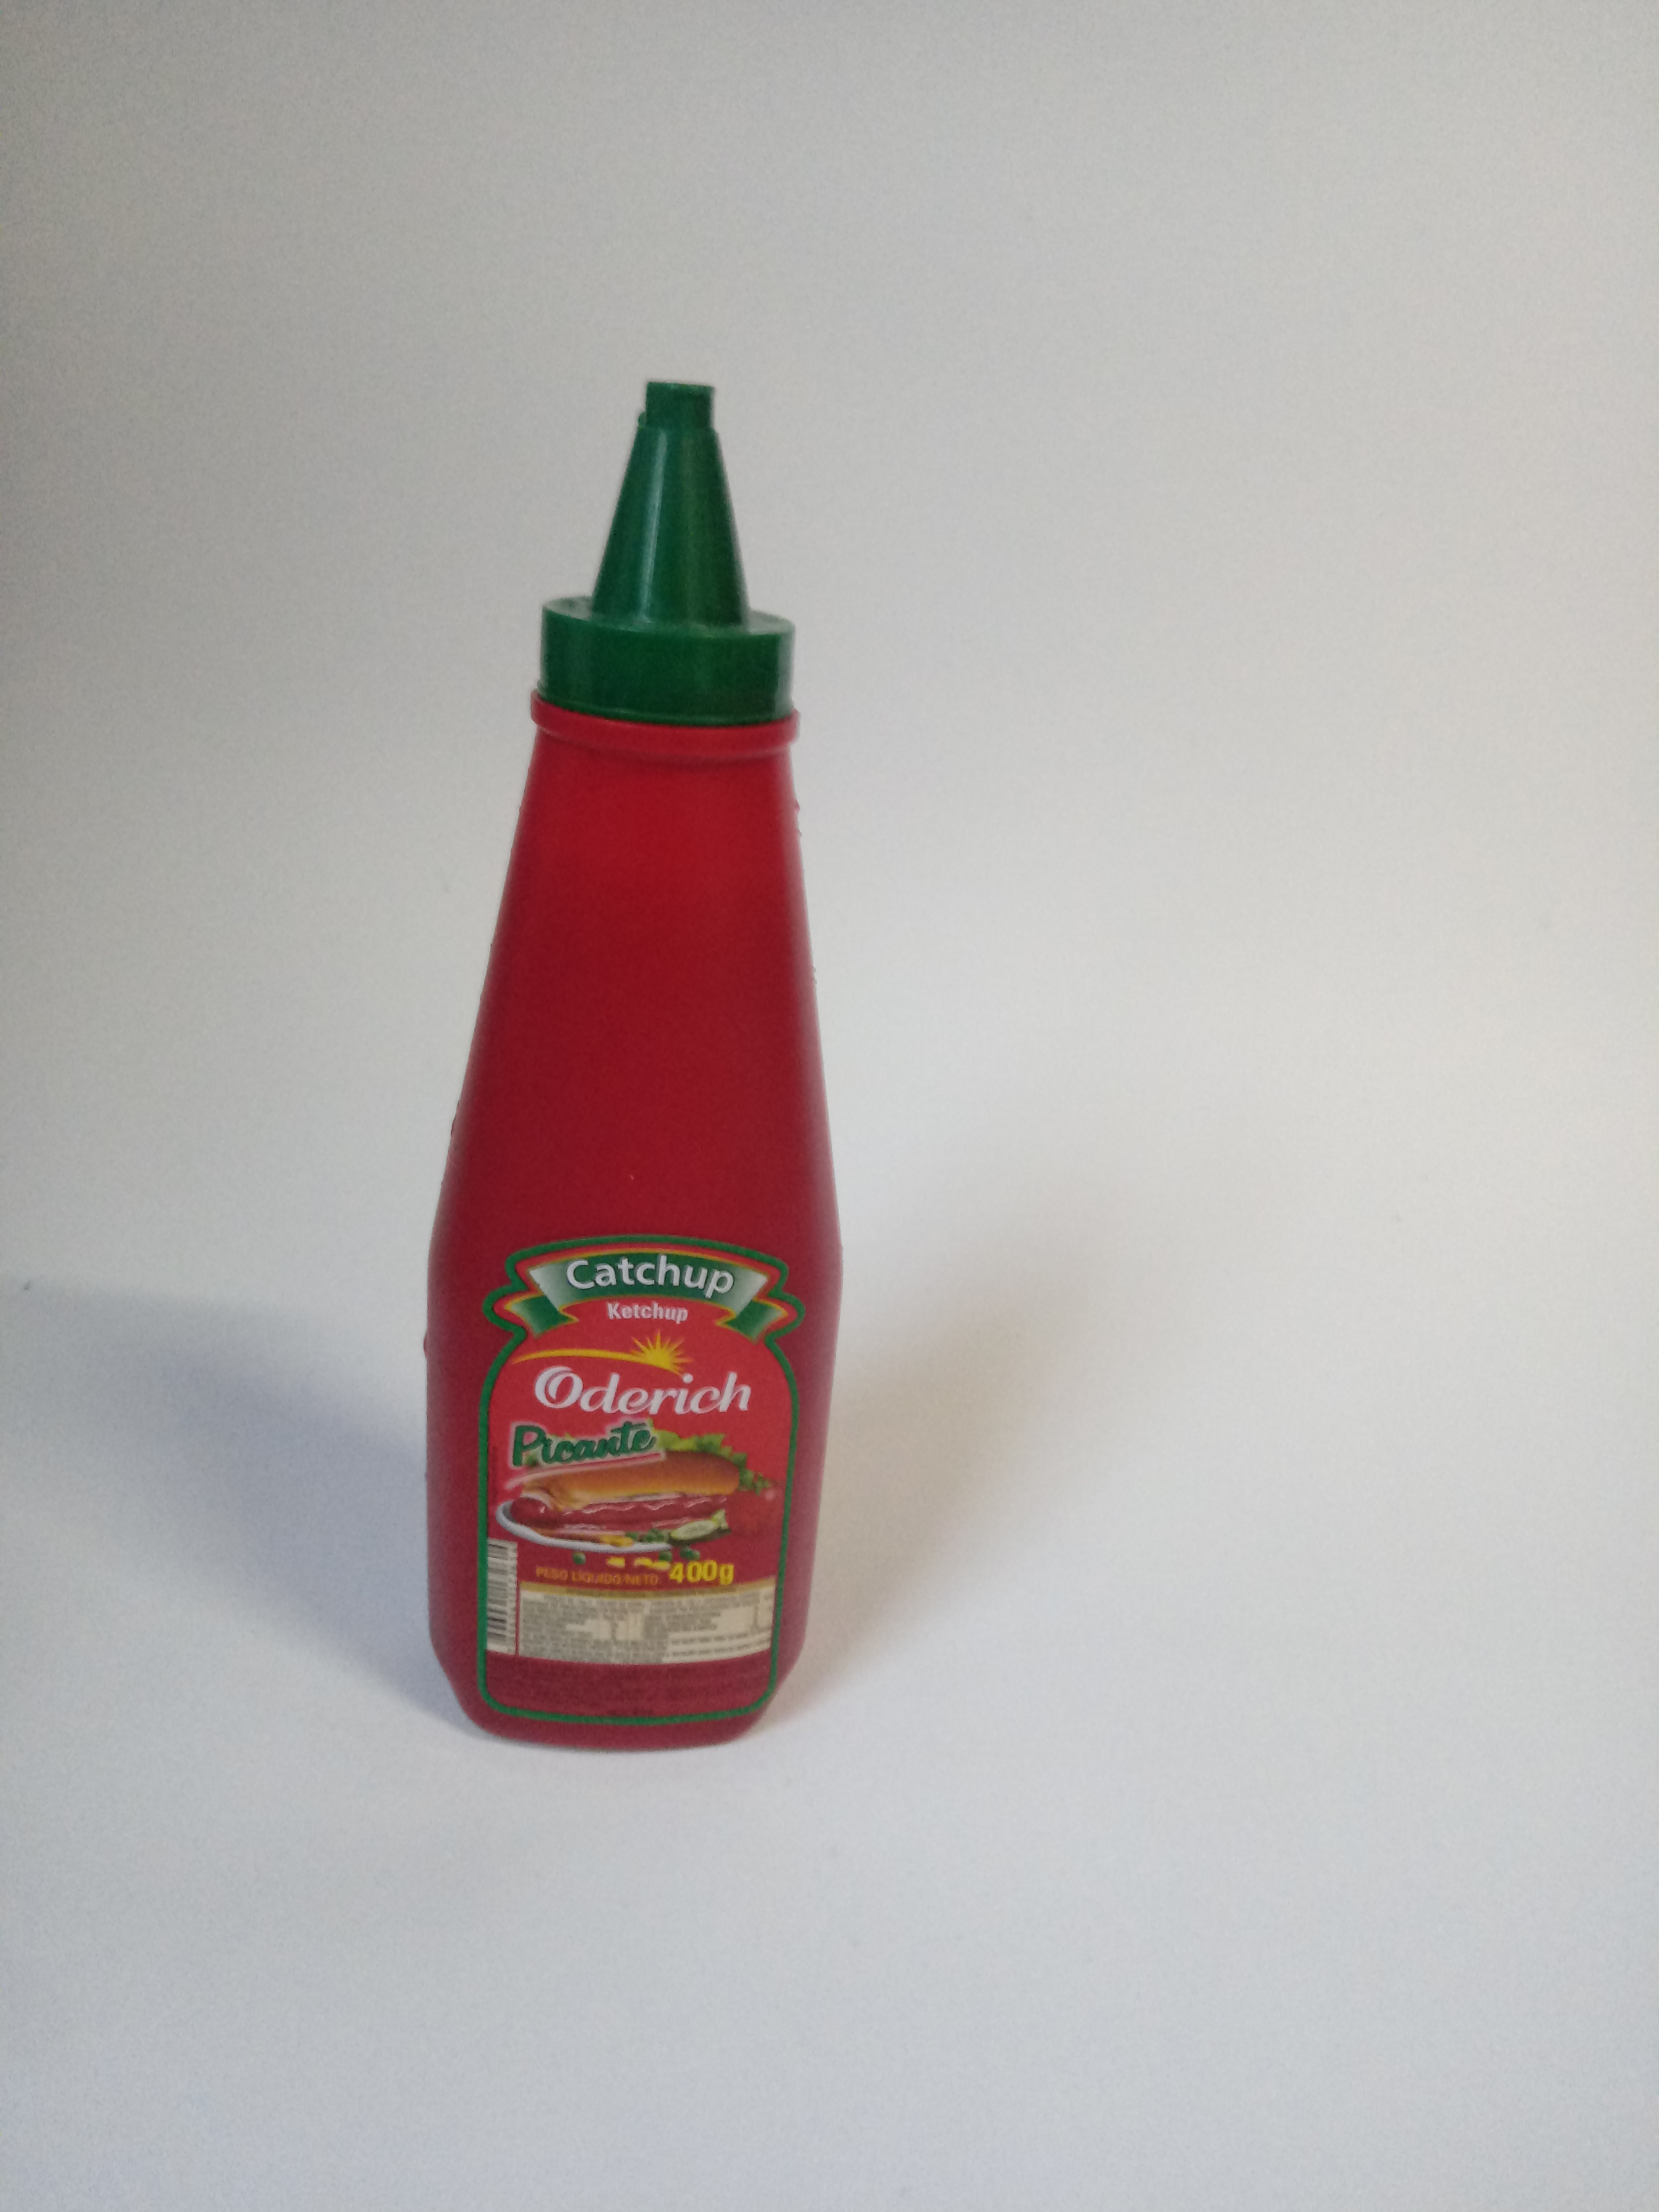catchup-oderich: (385, 348, 845, 1770)
